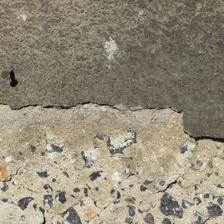Crack: (1, 50, 222, 96)
